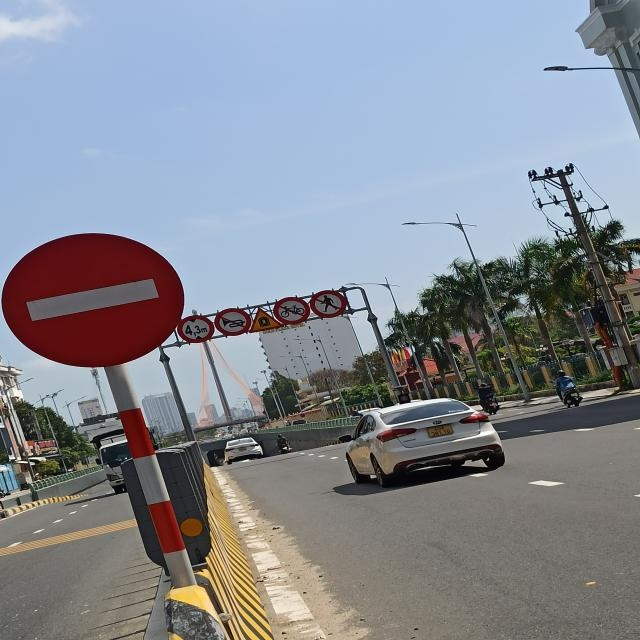bien_nguy_hiem: (1, 233, 184, 369), (309, 290, 348, 318), (273, 297, 310, 325), (215, 308, 250, 336), (178, 316, 214, 342), (250, 309, 283, 333)
